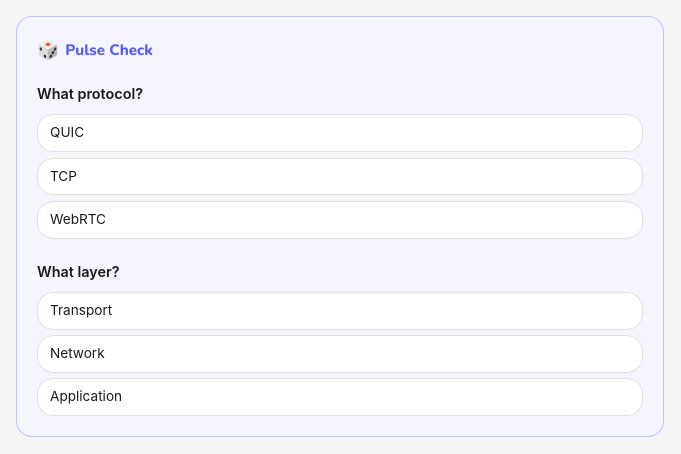
Scenario: QuizSection › each question tracks its selected answer independently
// Answer question 1 correctly (QUIC, index 0)
Click the button "QUIC".
click(67, 132)  # box [37,114,643,152]
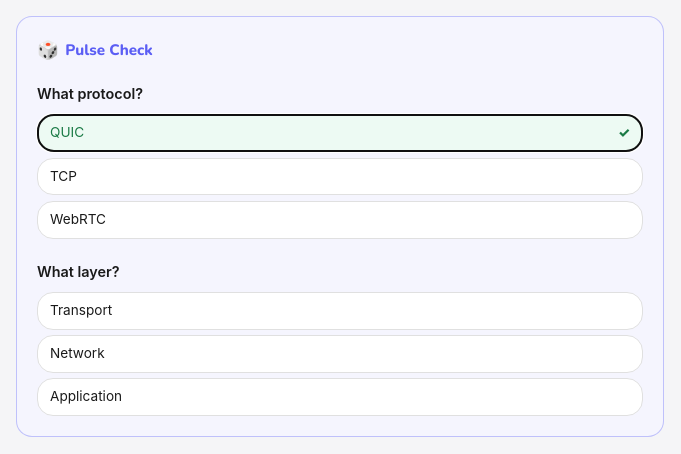
Click the button "Transport".
click(81, 310)  # box [37,292,643,330]
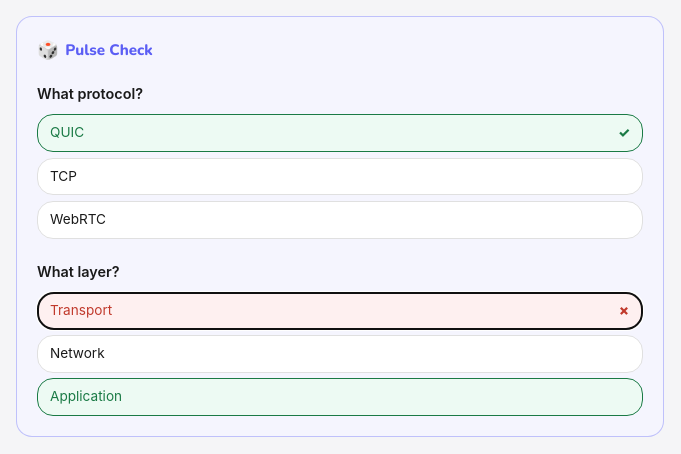
Expected: the button "QUIC ✓" is shown, [37,114,643,152]
Expected: the button "Transport ✗" is shown, [37,292,643,330]
